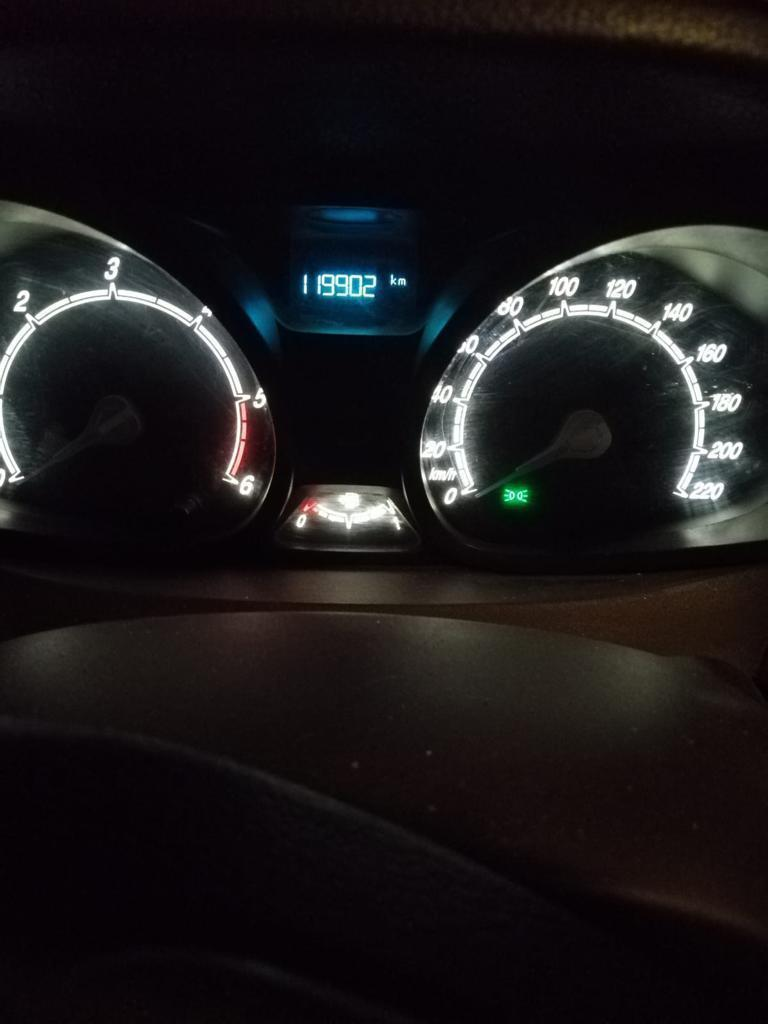0: (349, 273, 362, 297)
1: (301, 271, 309, 297), (315, 271, 322, 296)
2: (362, 273, 377, 298)
9: (335, 273, 348, 296), (322, 273, 334, 296)
X: (388, 272, 397, 286), (397, 277, 406, 286)
odometer: (293, 262, 412, 307)
